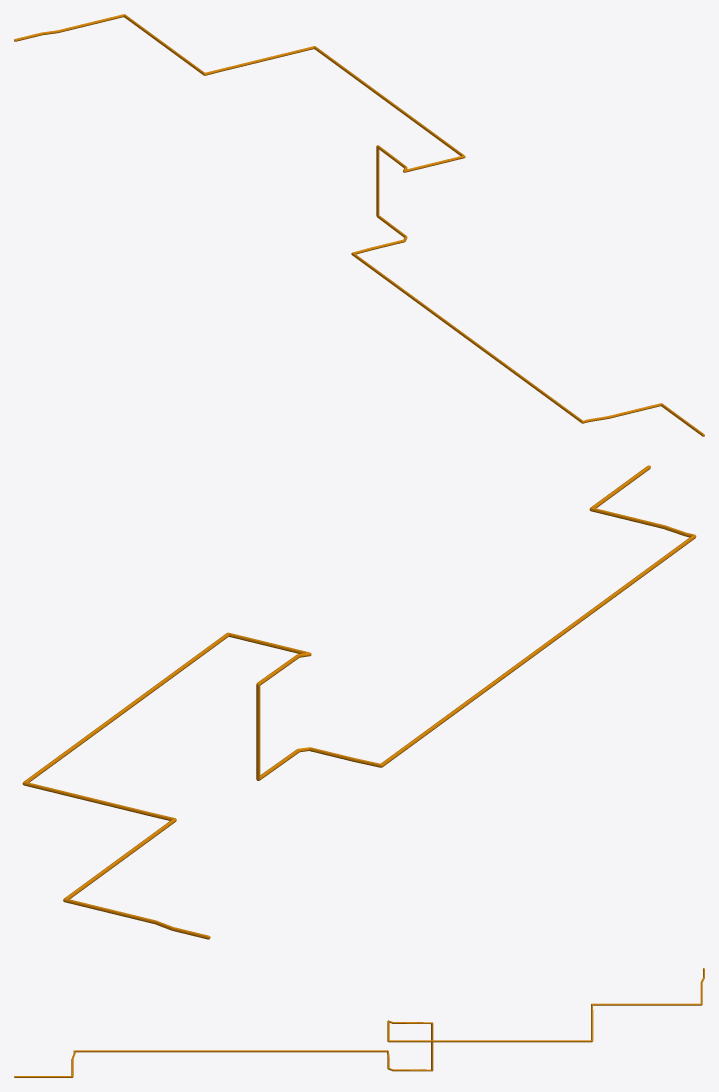
3 views of the same model, one above another, from view 1: azimuth 30°, elevation 25°; view 2: azimuth 150°, elevation 25°; view 3: azimuth 270°, elevation 25° (orthographic). The views are drawn at different scales.
Bounding box in the file's own units: 1656 × 520 × 6618.
